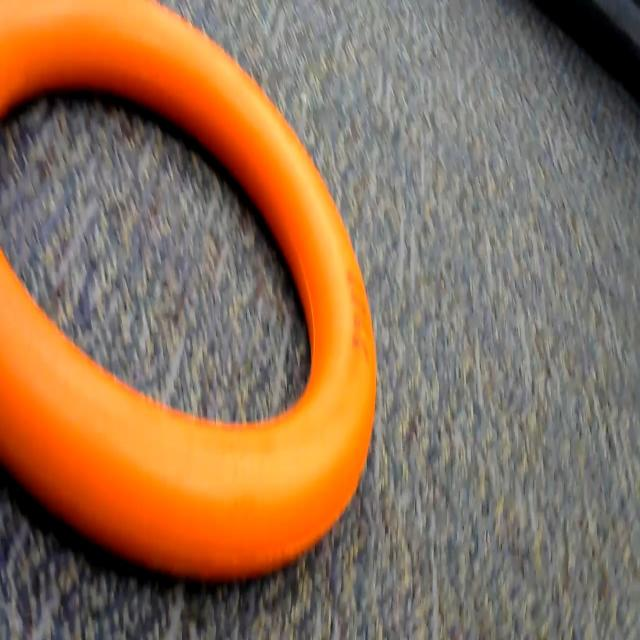note: (0, 0, 383, 620)
